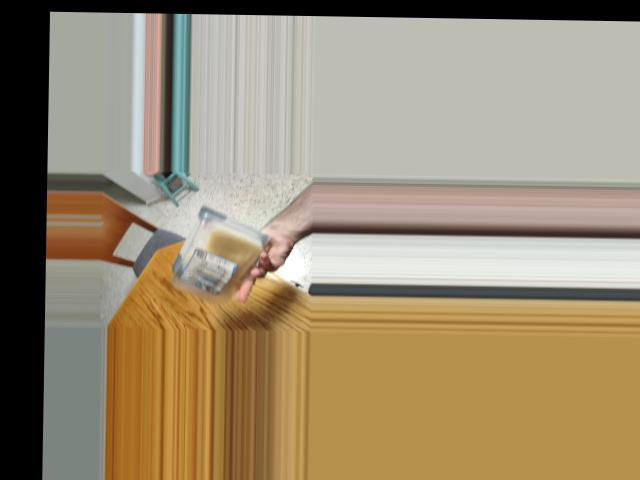cheese: (171, 206, 246, 298)
